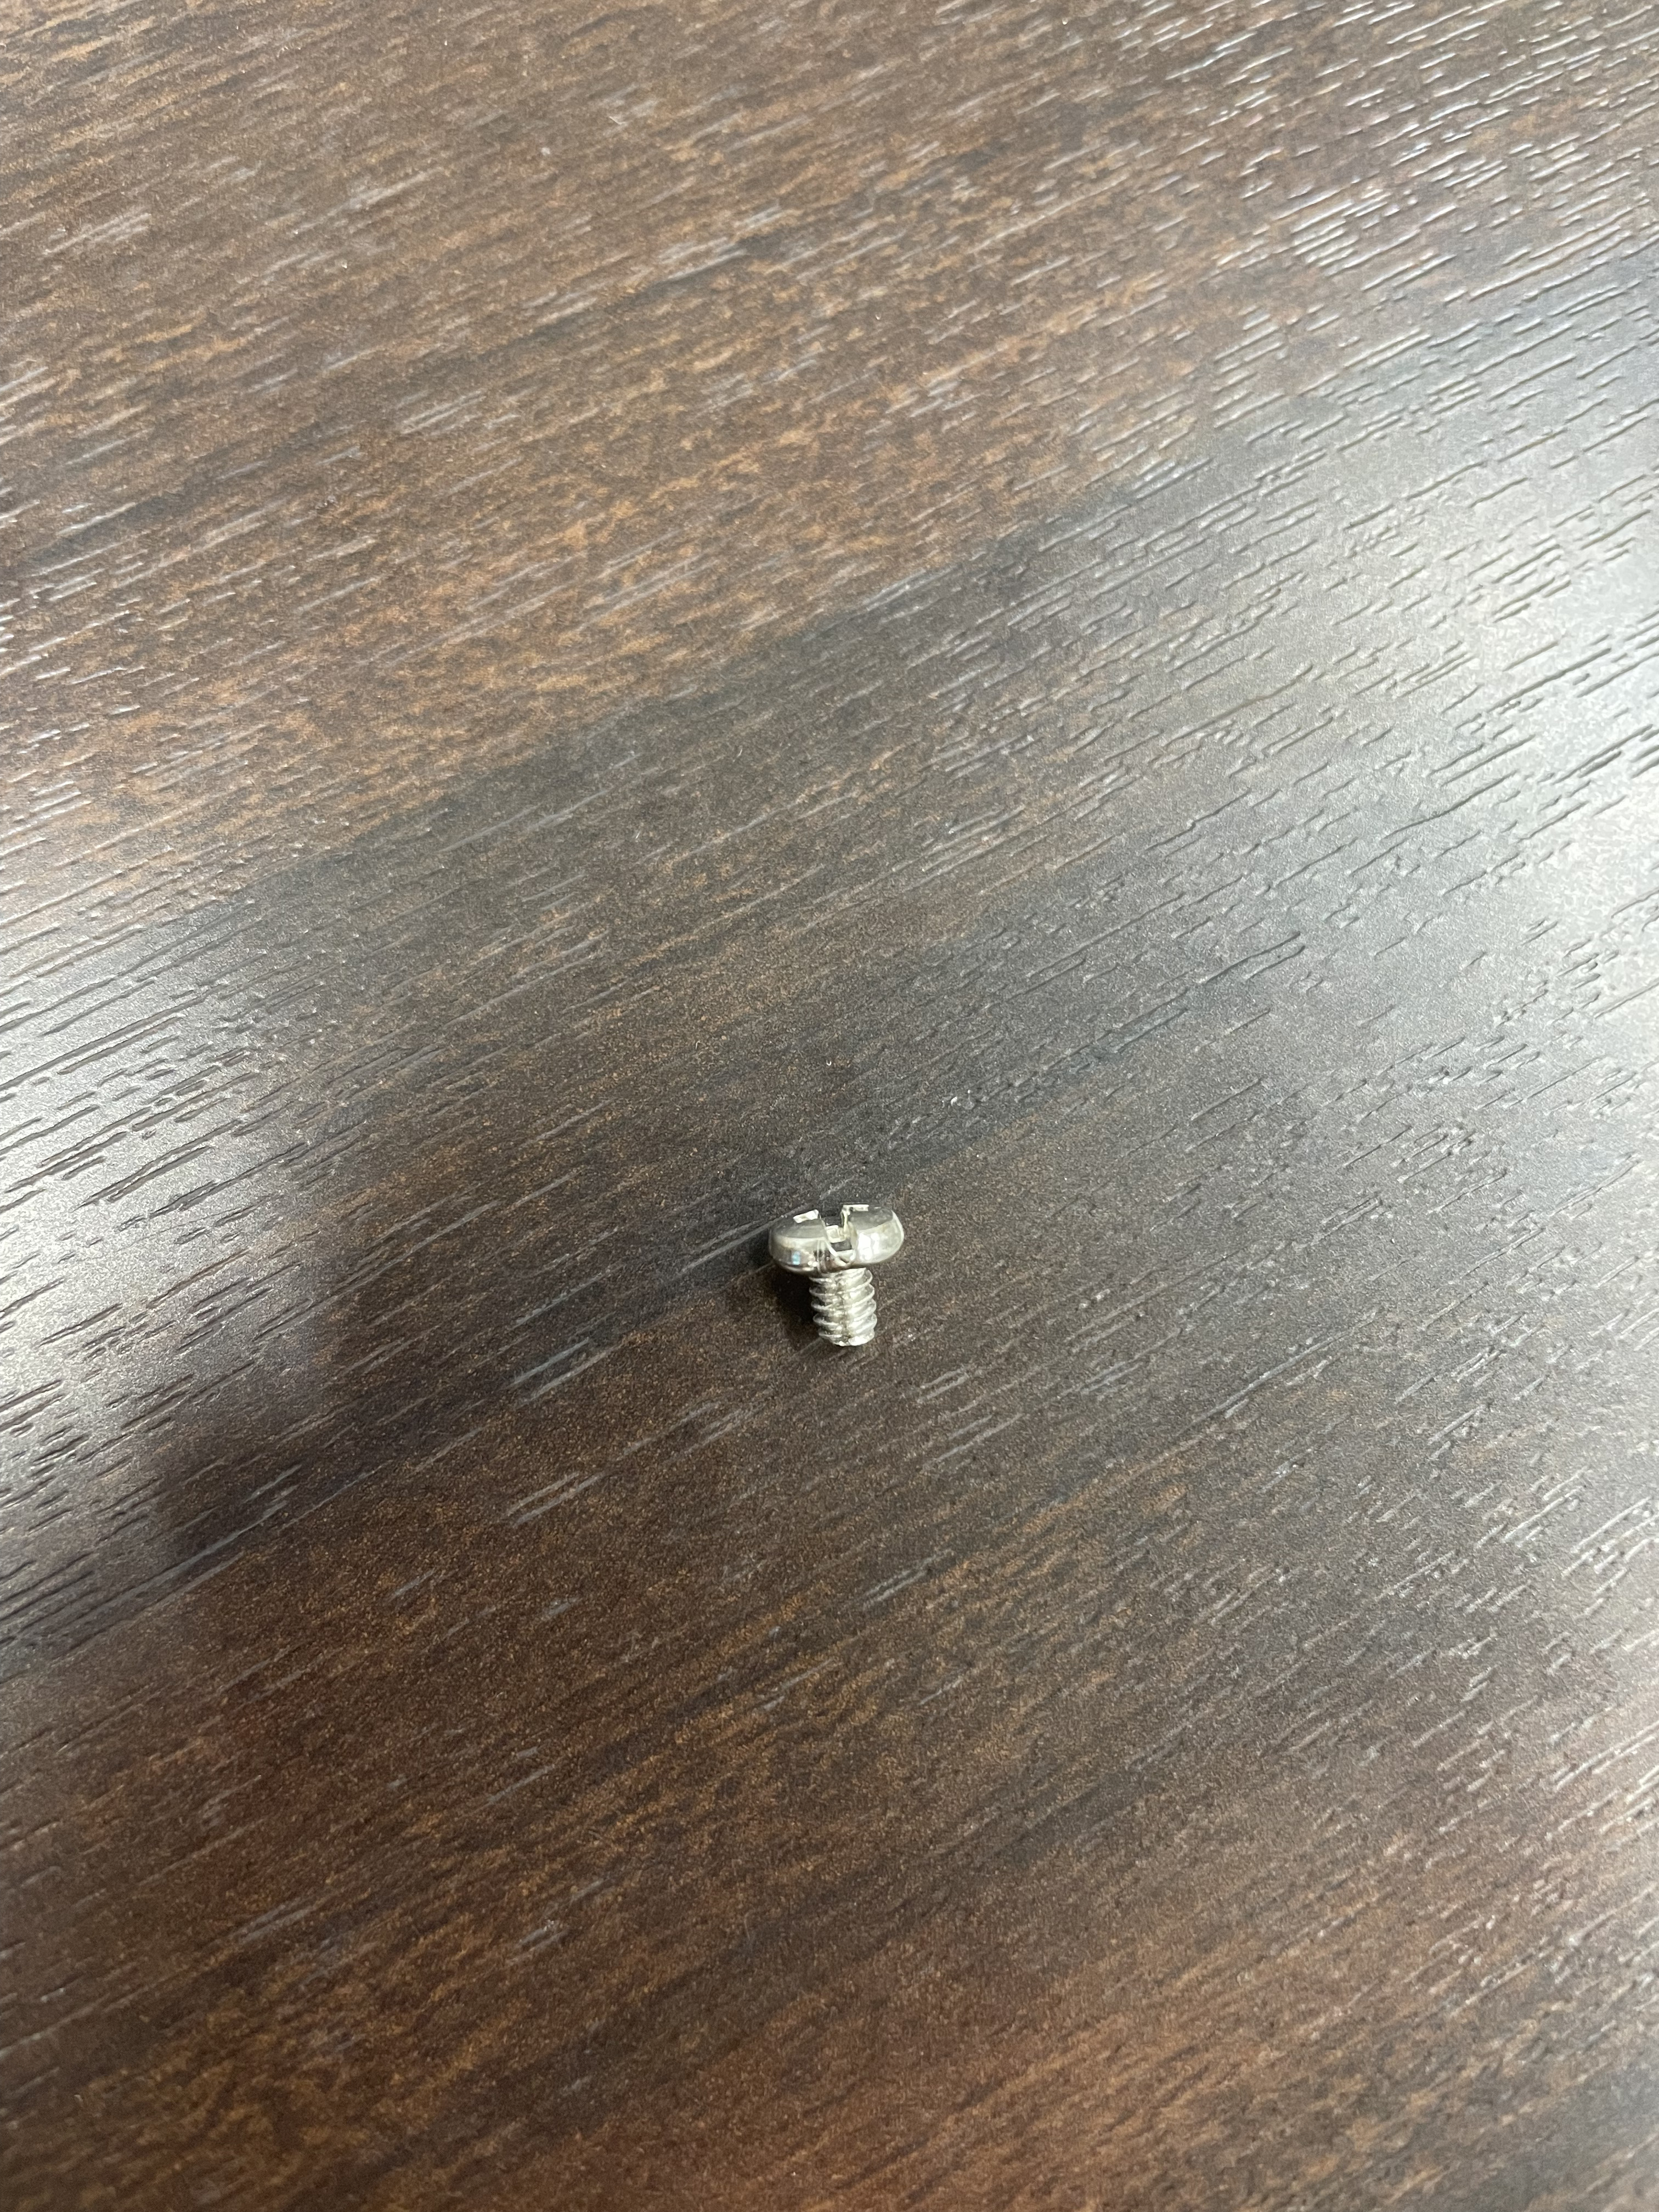screw4: (760, 1198, 908, 1356)
